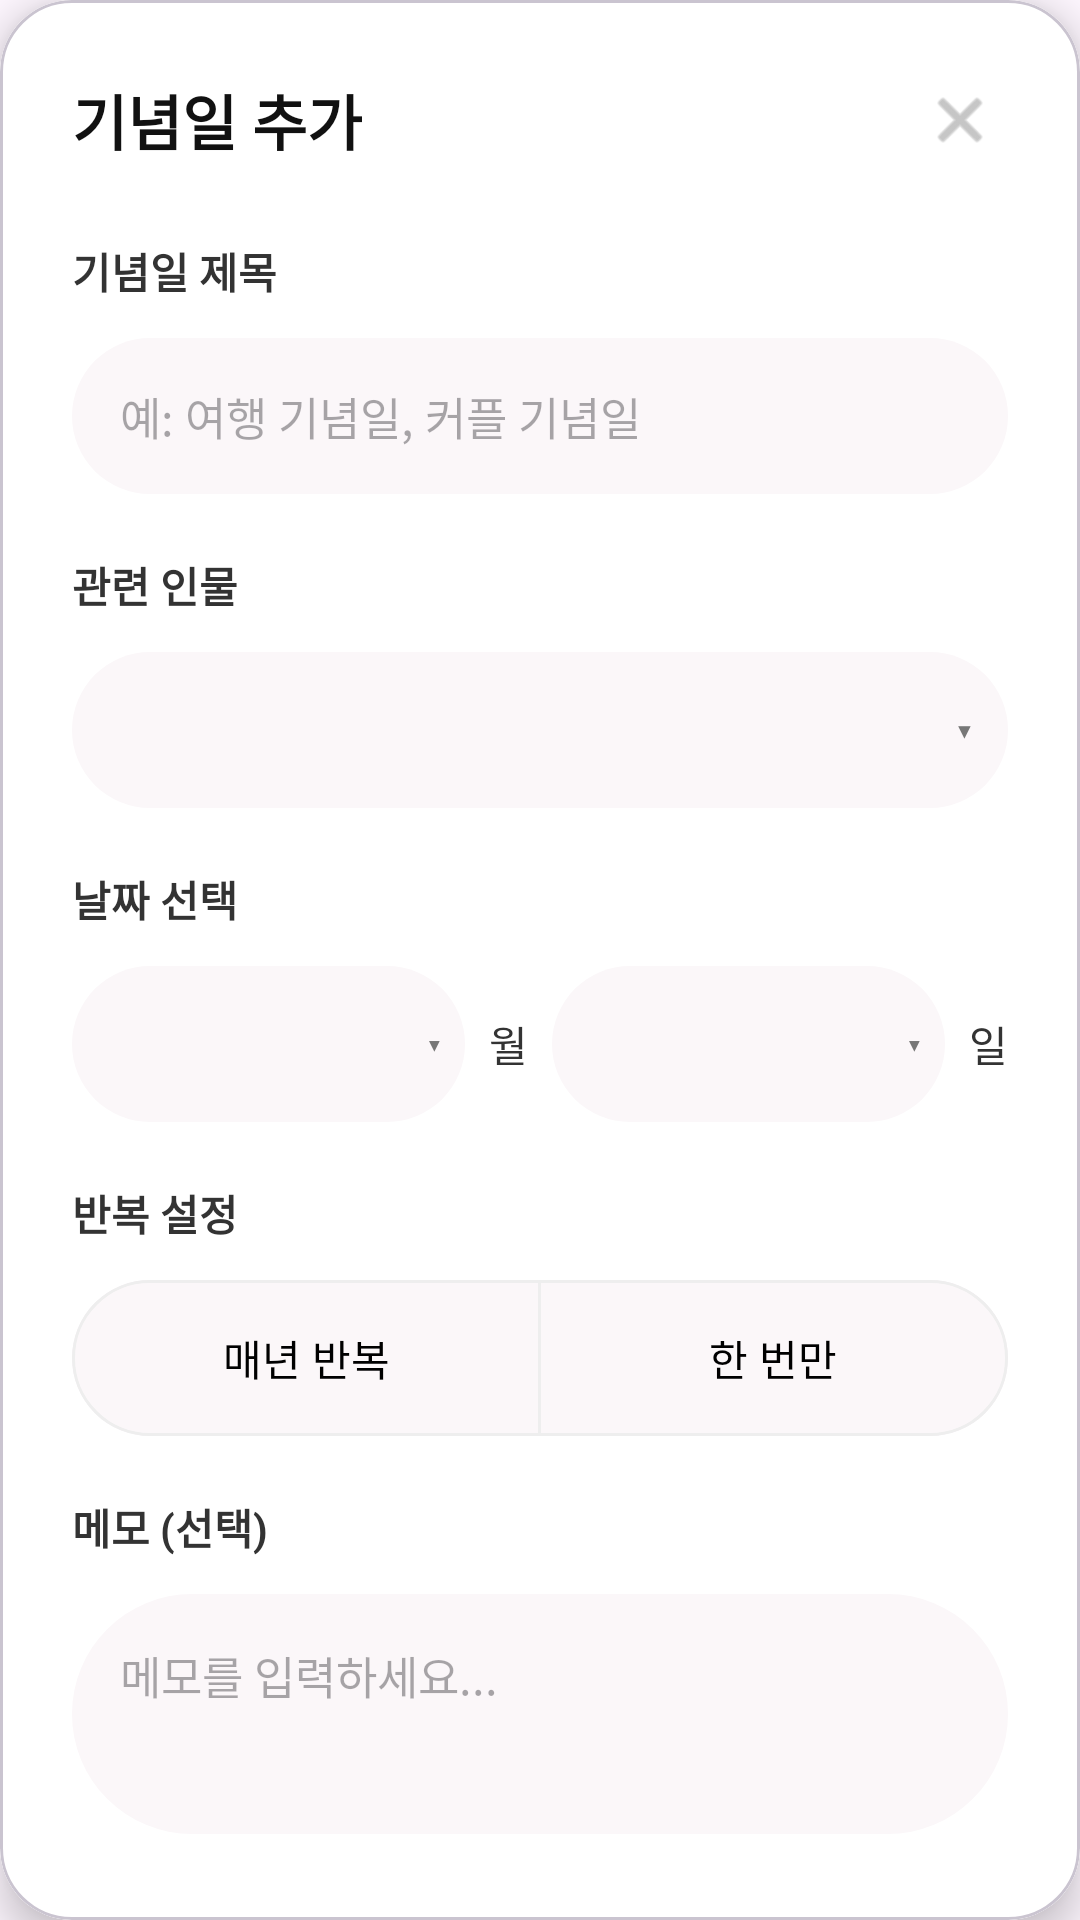

Screen size 1080*1920. Icon name, then its box in pixels as (x1, y1, x2, y2):
close clear cancel: (938, 98, 982, 142)
